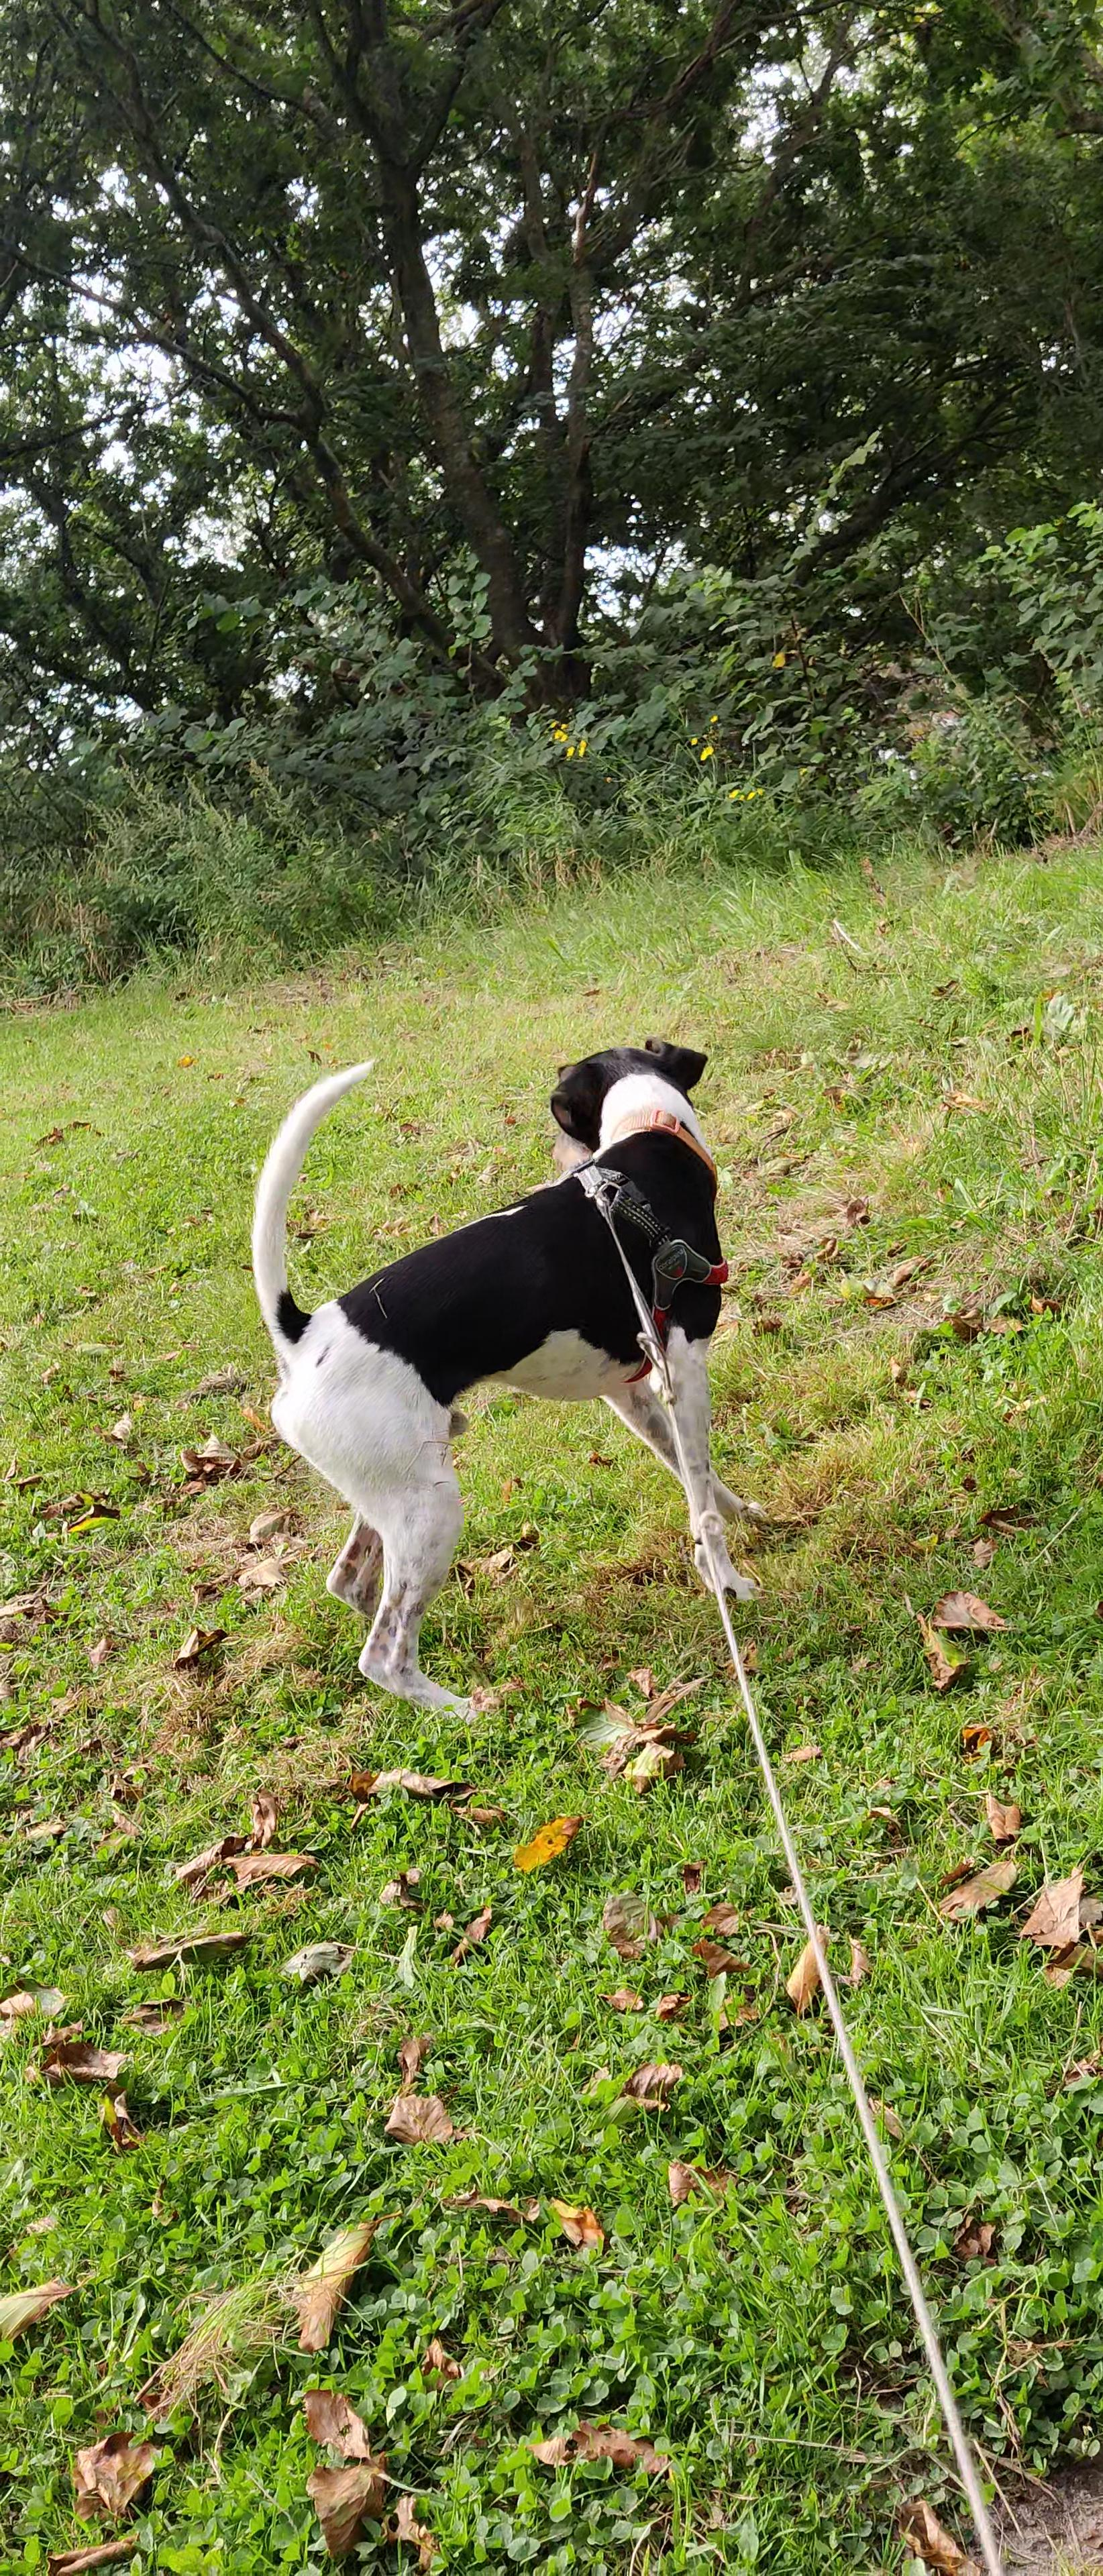Dog: (219, 1025, 792, 1727)
